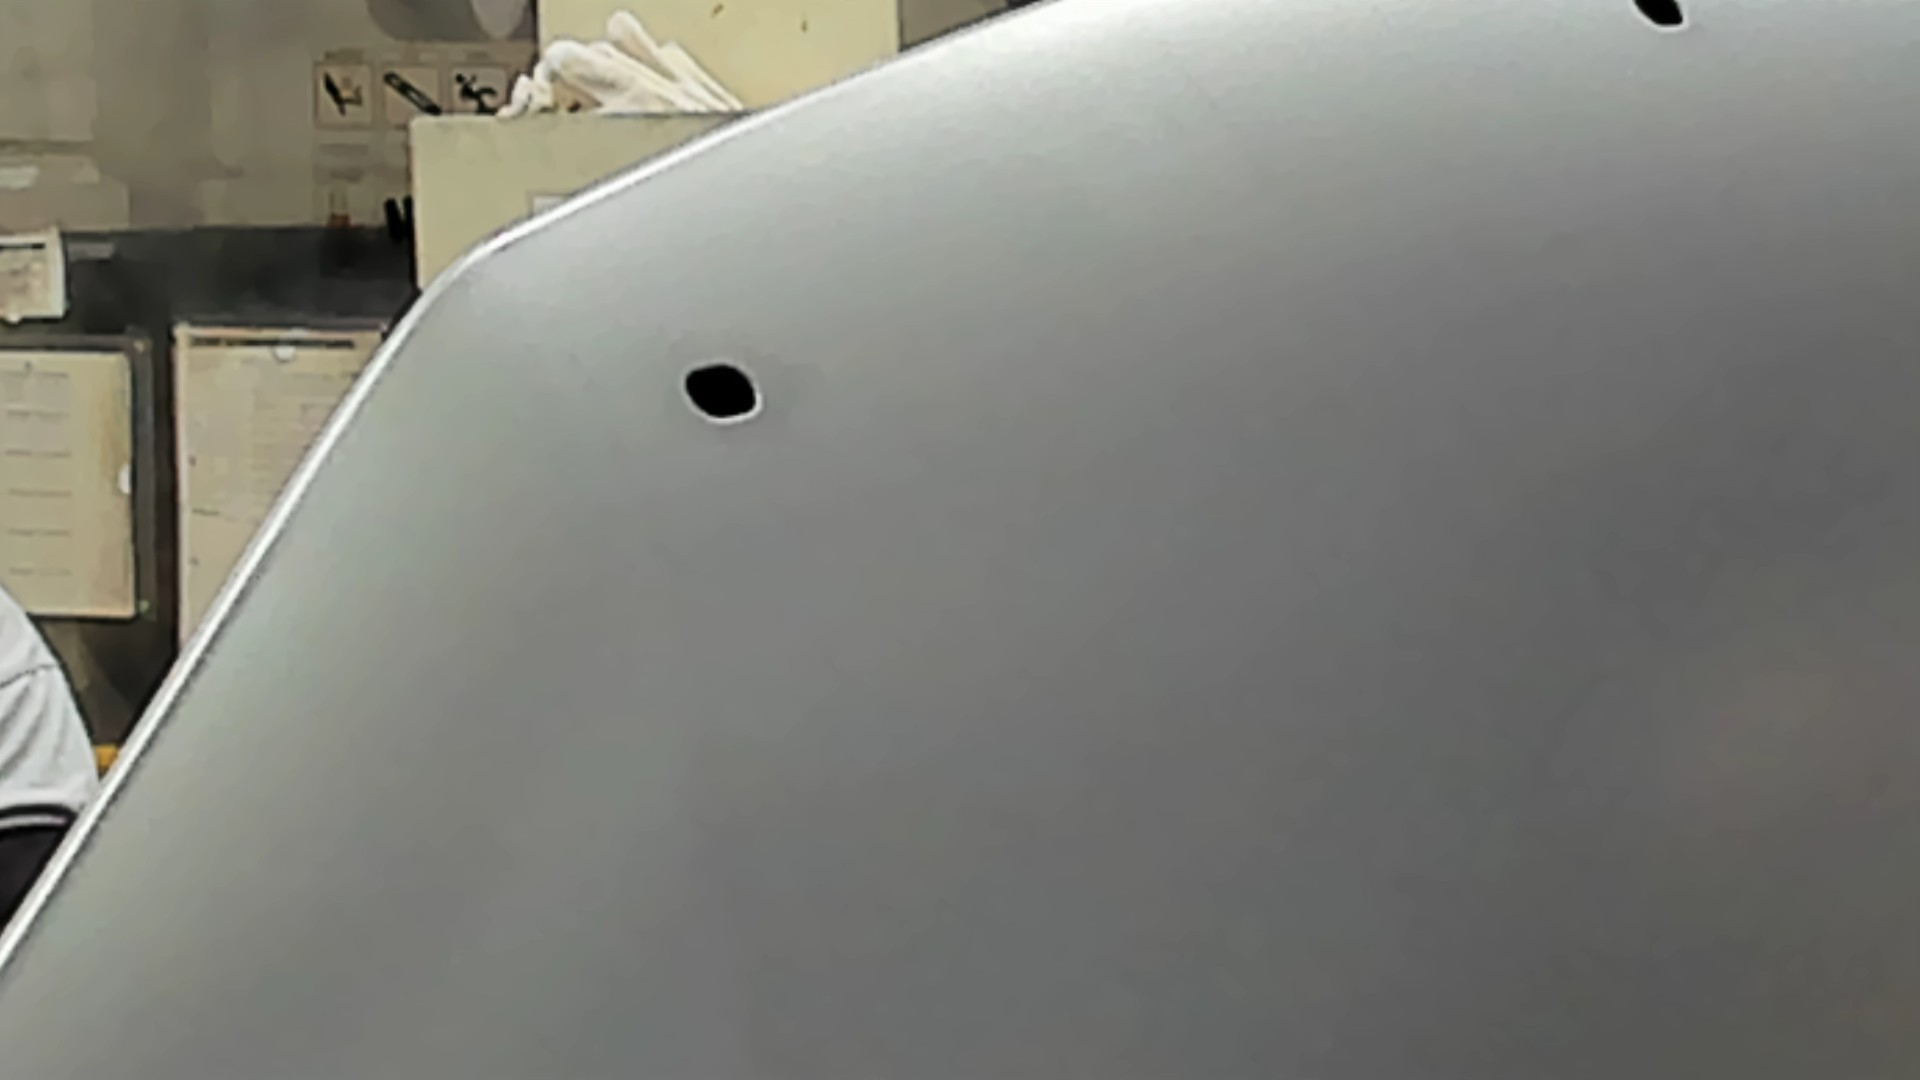amorfo: (673, 353, 767, 429), (1618, 1, 1701, 38)
